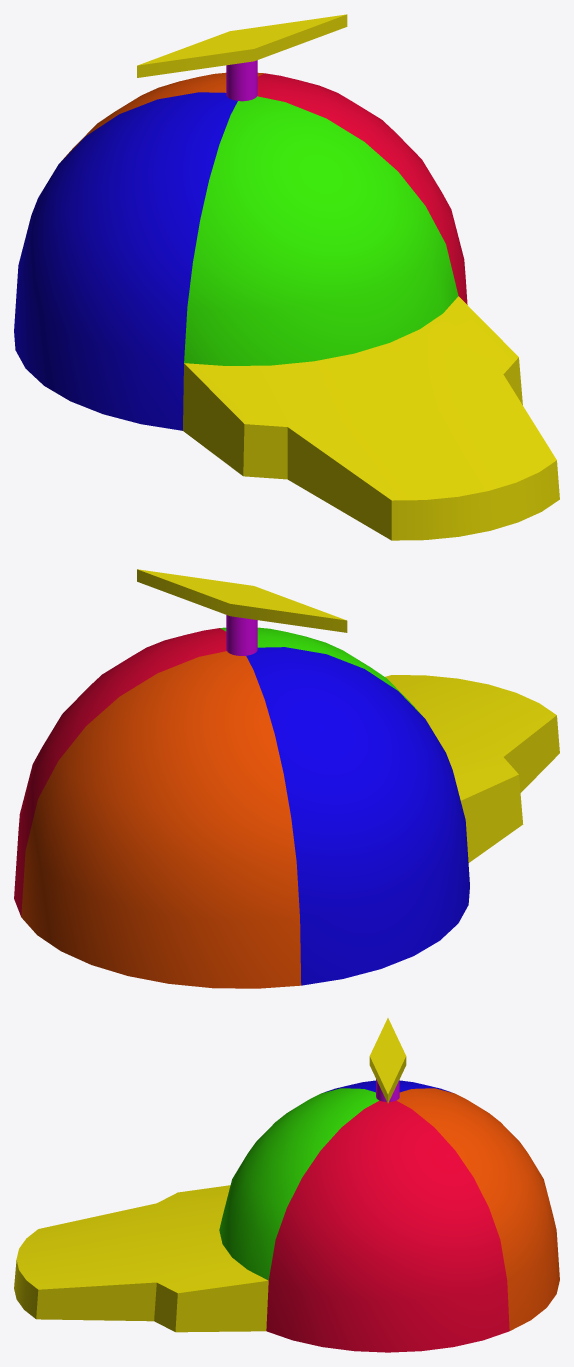
File: Cap with propella.fbx
3 views of the same model, one above another, from view 1: azimuth 30°, elevation 25°; view 2: azimuth 150°, elevation 25°; view 3: azimuth 270°, elevation 25° (orthographic). The views are drawn at different scales.
Parts seen in each view (by area): view 1: Nerd Cap; view 2: Nerd Cap; view 3: Nerd Cap.
Part boxes in pixels (x1,y1,x2,y2): Nerd Cap: (14, 14, 559, 540); Nerd Cap: (14, 569, 559, 988); Nerd Cap: (14, 1018, 559, 1352).
Size of the model in its own units: 542 by 404 by 860.
